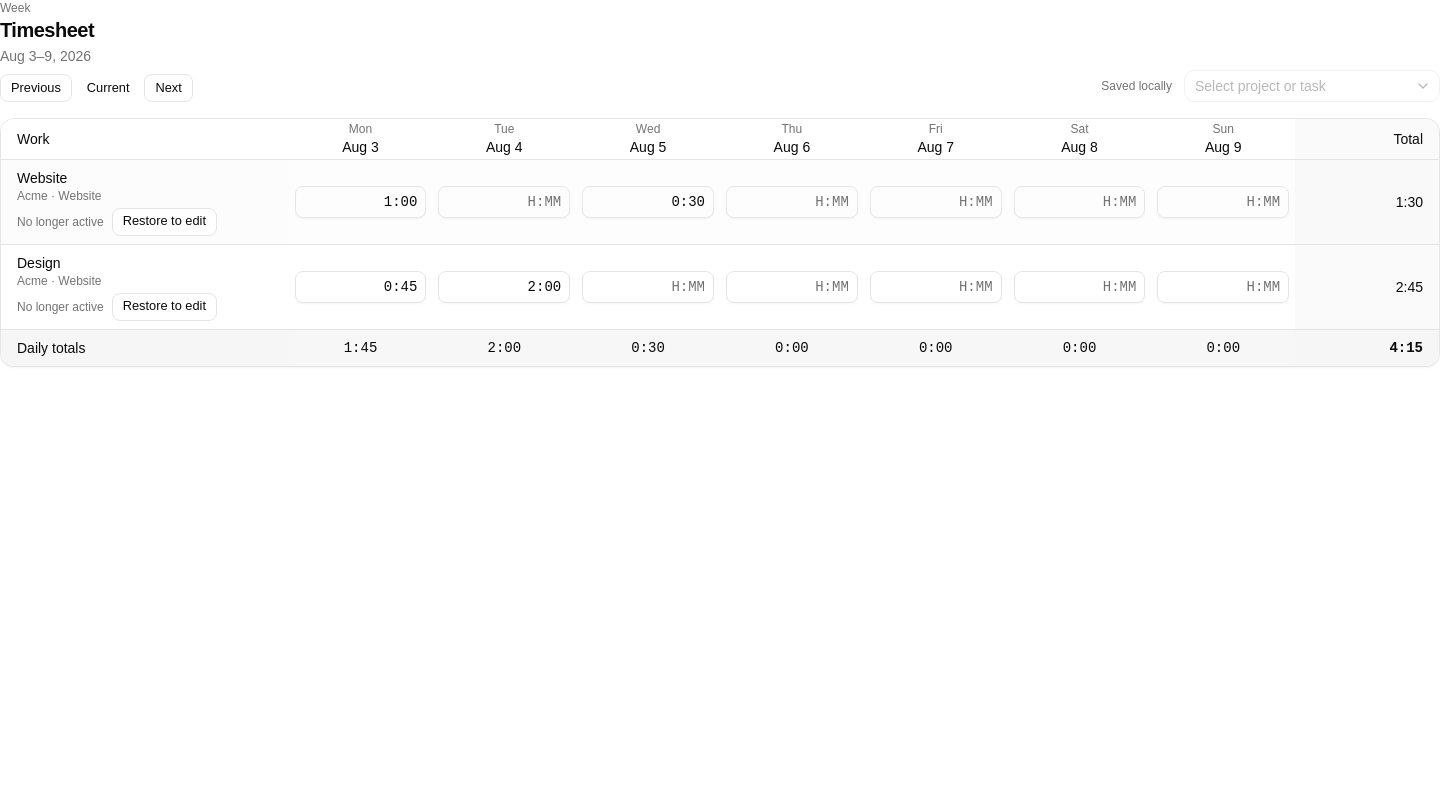
Test: restores a row, reloads the row and selector, and retries with a fresh preview after failure
Check: the dropdown labelled "Select project or task" is disabled, box [1184,70,1439,102]
Click the button with aria-label "Restore Acme · Website · Design to edit": (164, 306) [112,292,217,320]
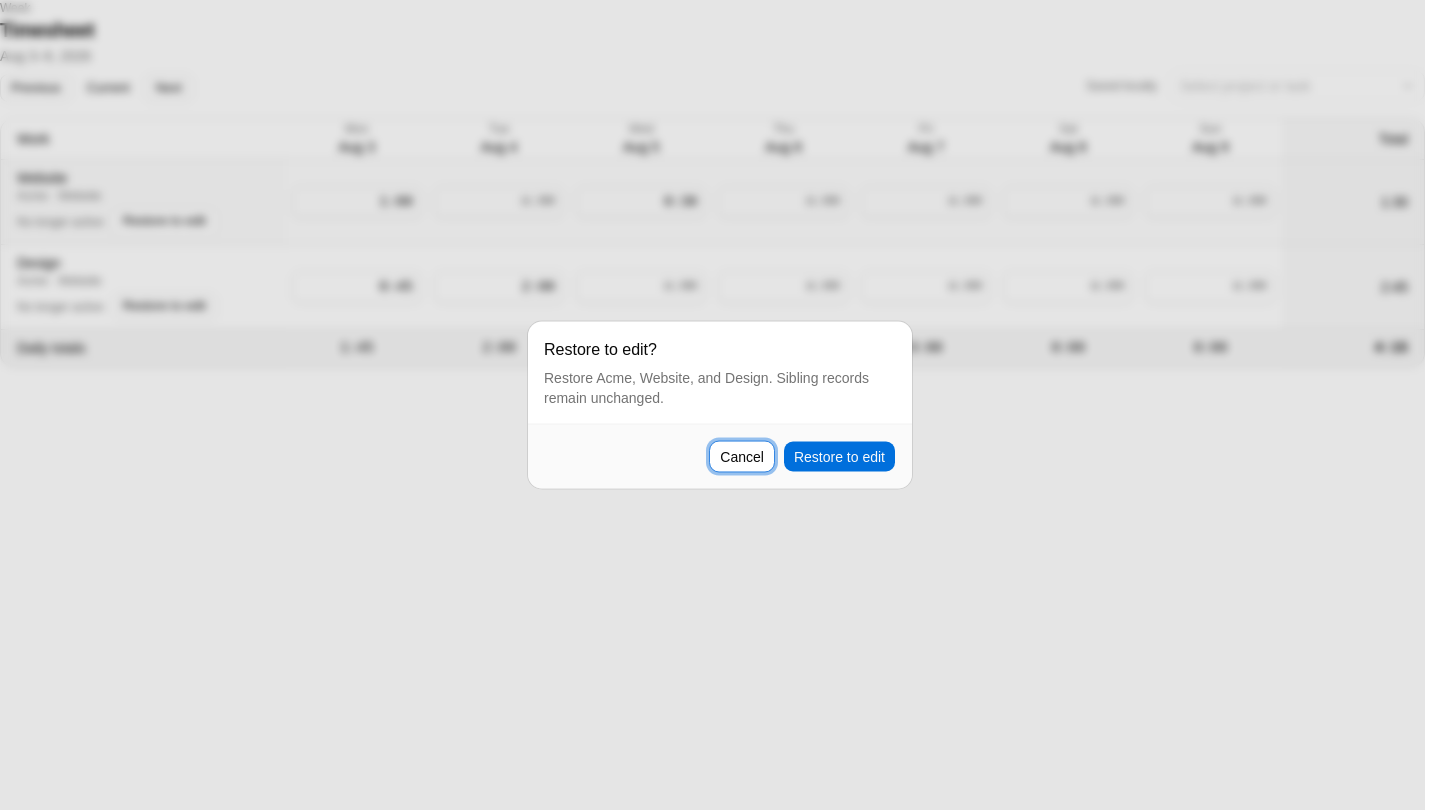
Click the button "Restore to edit": (839, 456) [783,440,896,472]
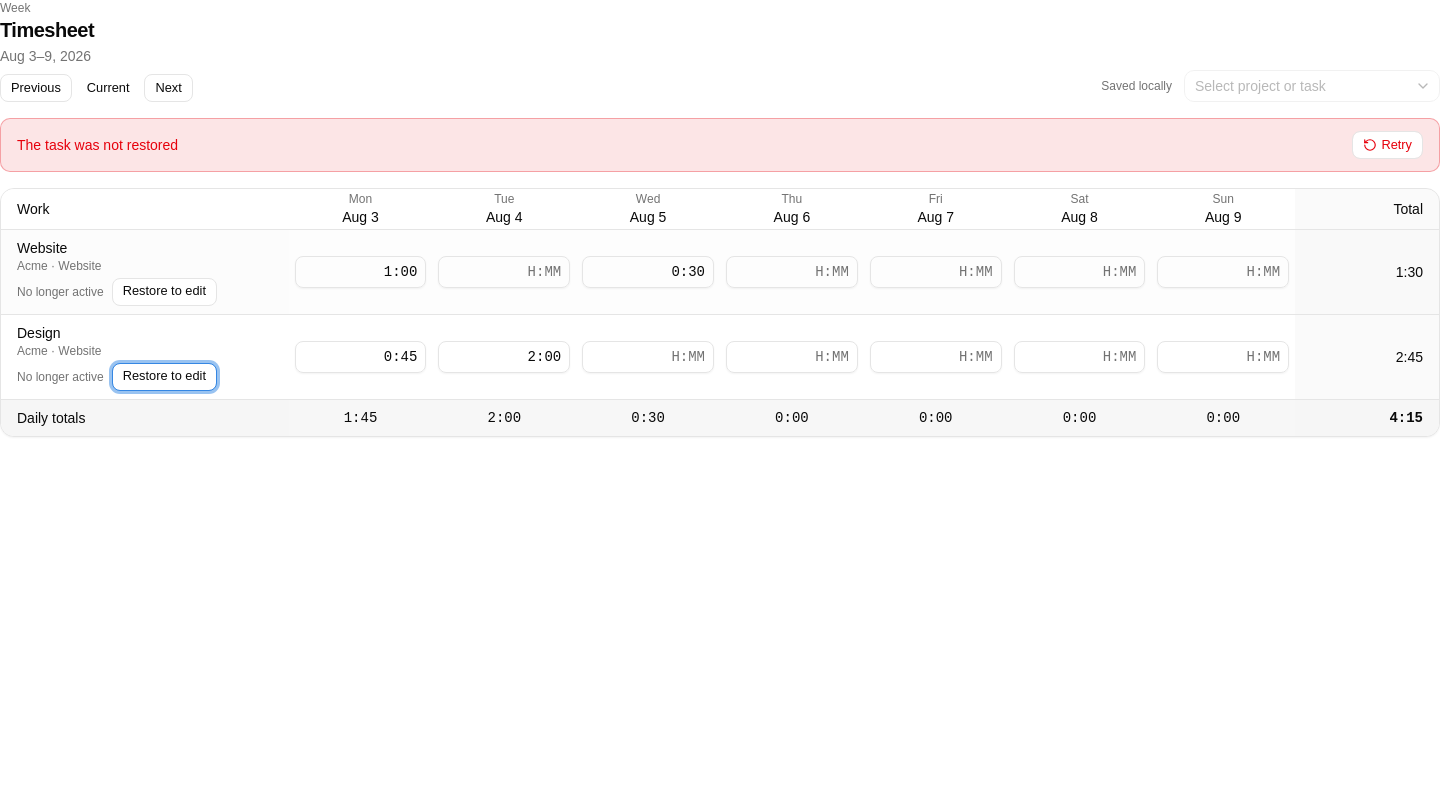
Check: the message "The task was not restored Retry" is shown, box [0,118,1439,172]
Click the button "Retry": (1388, 145) [1352,131,1423,159]
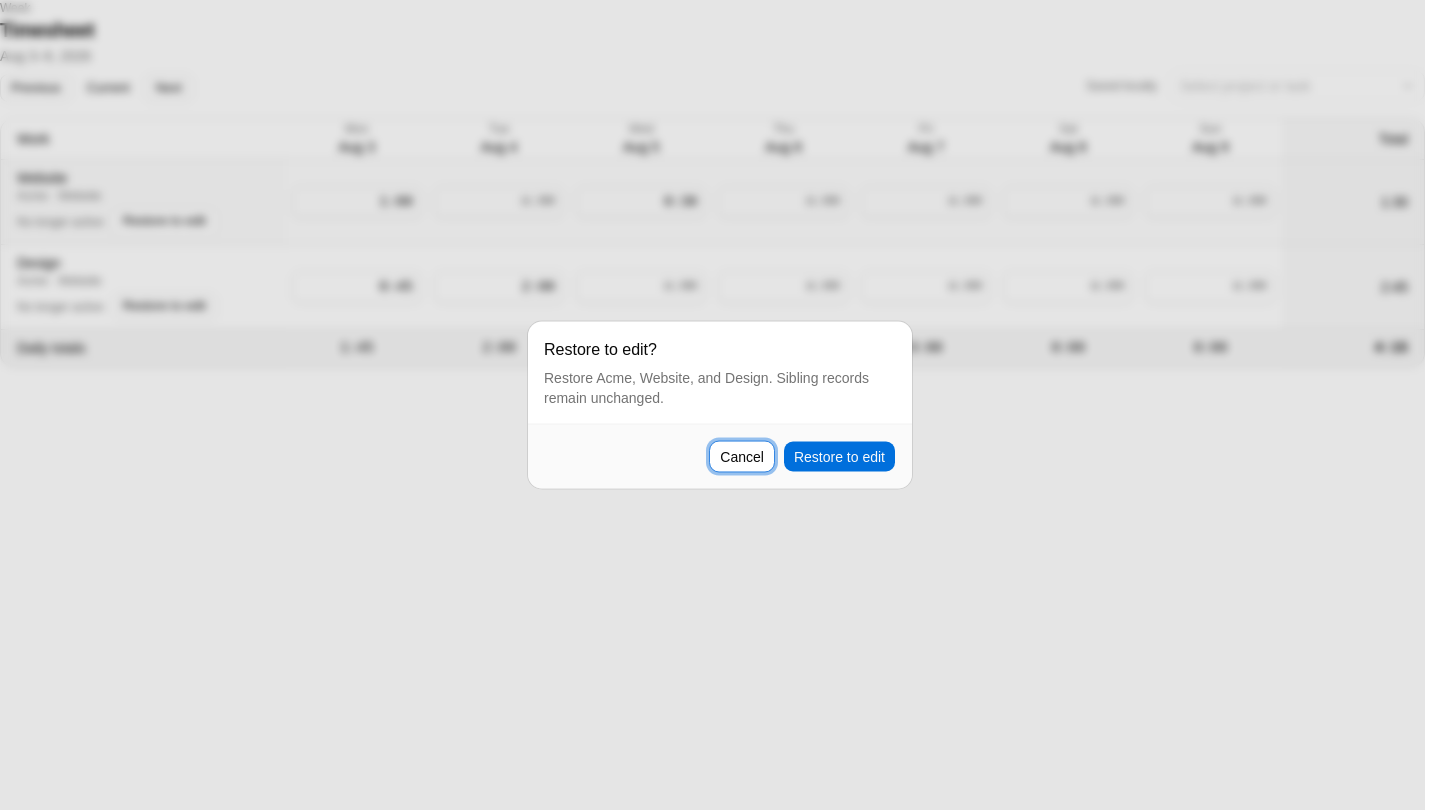
Click the button "Restore to edit": (839, 456) [783,440,896,472]
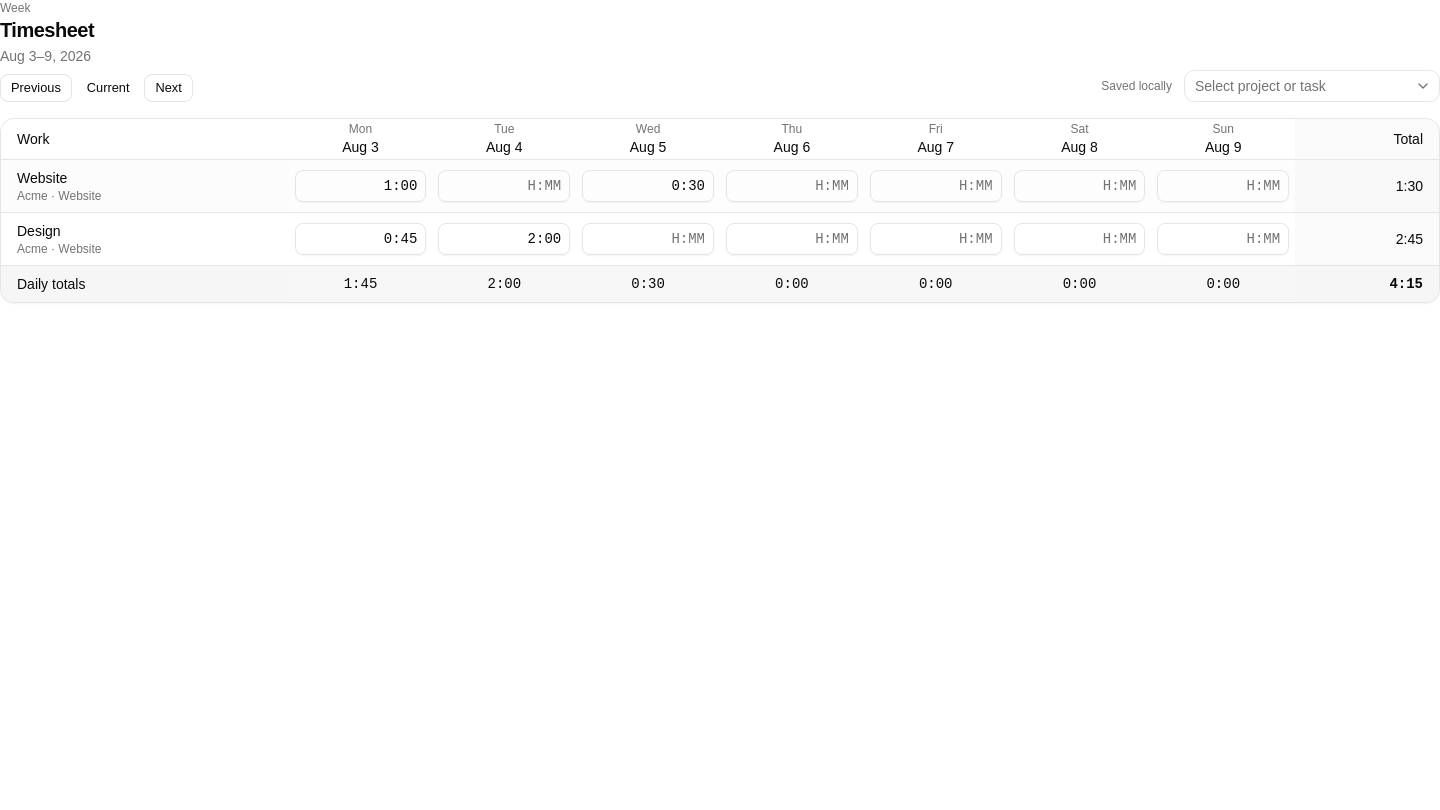
Check: the dropdown labelled "Select project or task" is enabled, box [1184,70,1439,102]
